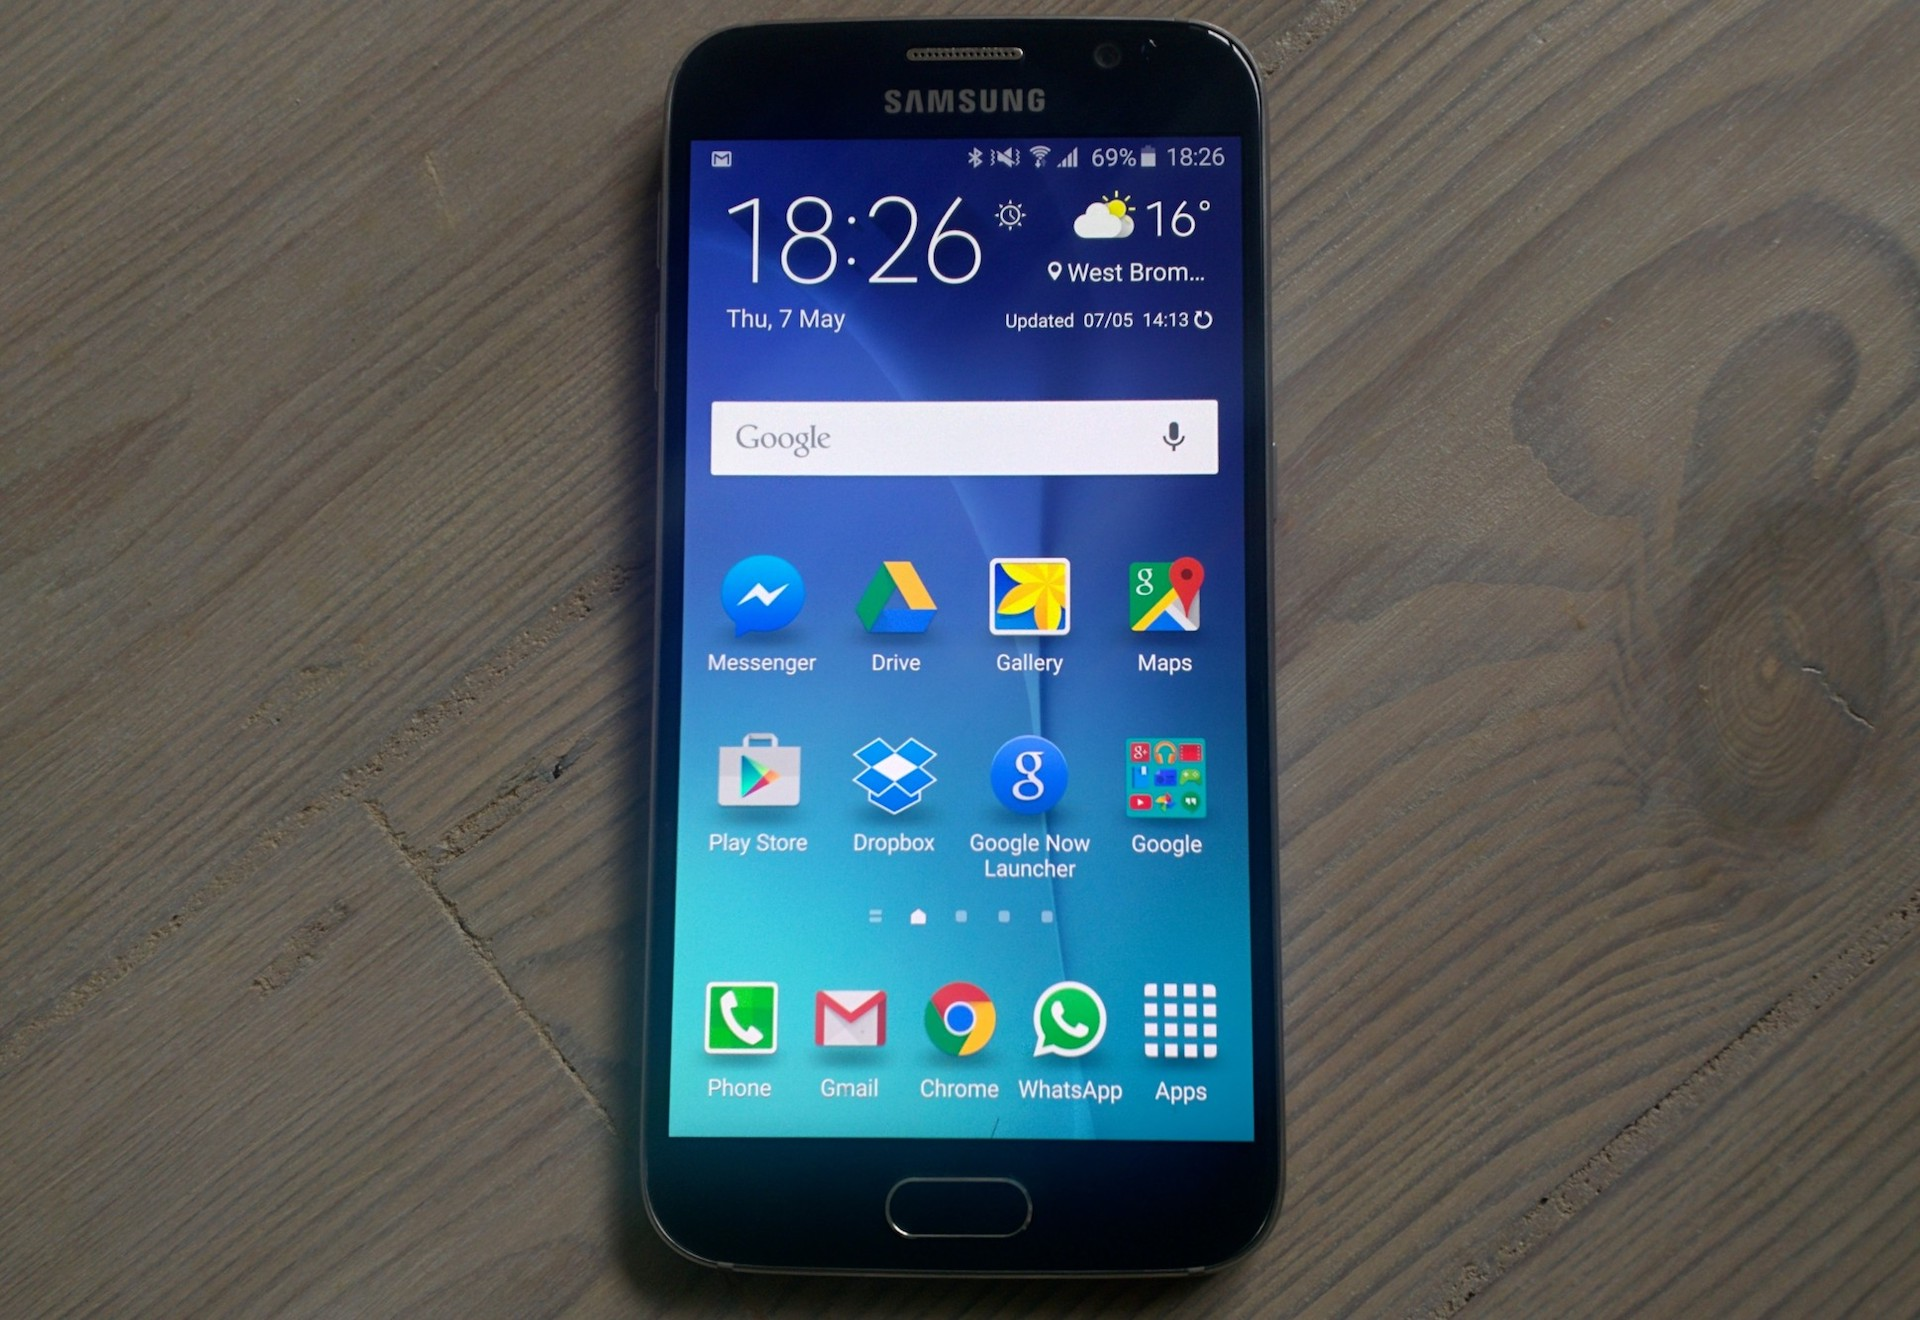smartphone: (630, 16, 1290, 1284)
